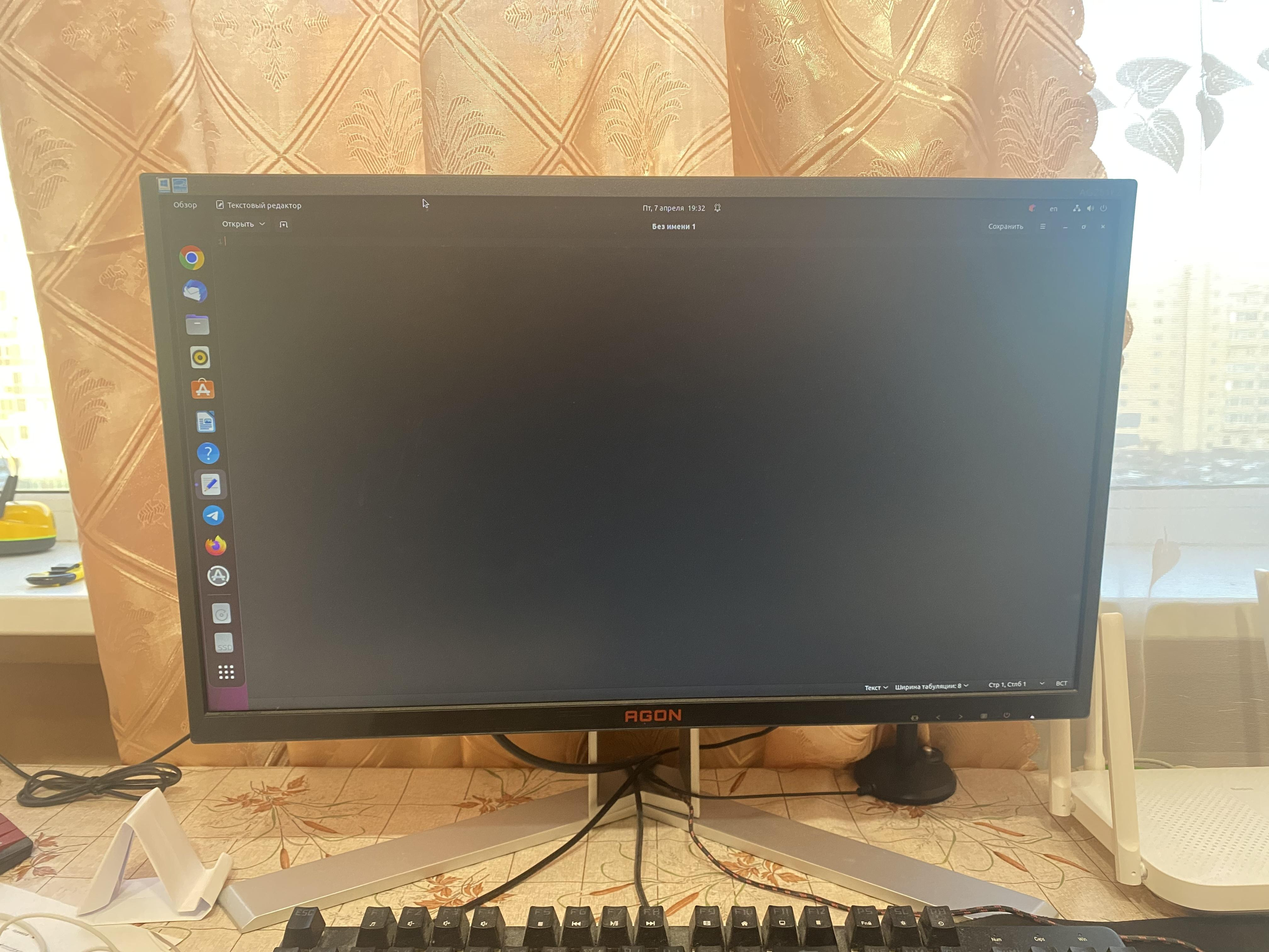monitor: (137, 165, 1141, 752)
